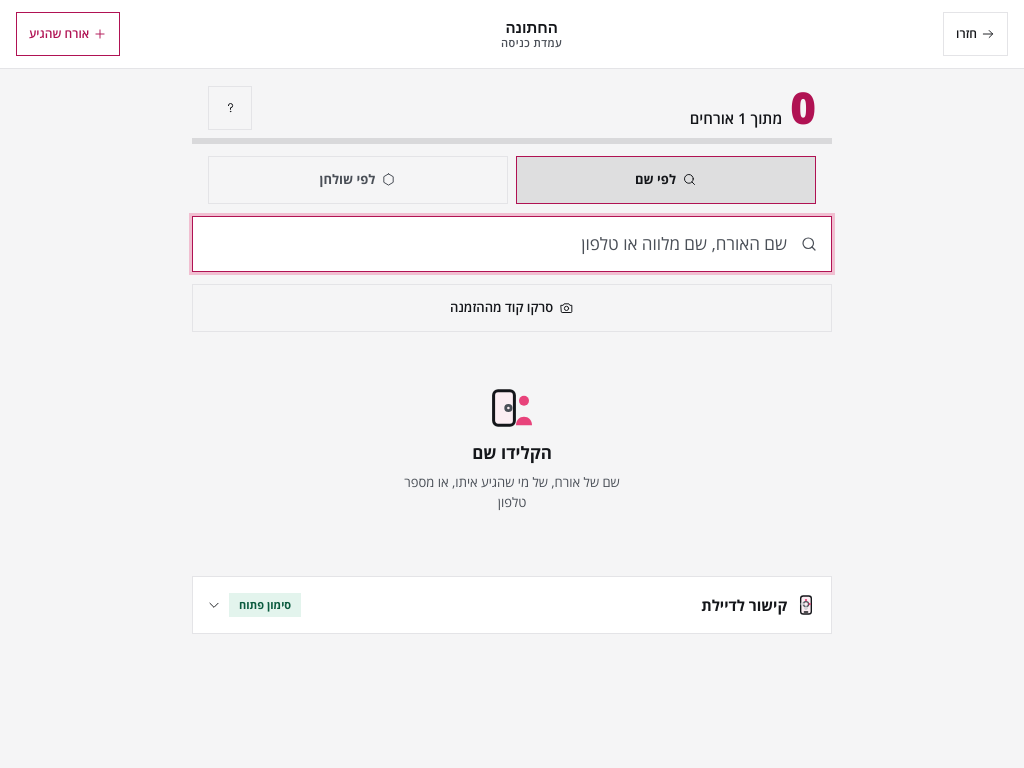
door — free seats › counts the tables with room past the eight it shows
What coordinates should you click on to do the following:
click the tab "לפי שולחן"
I would click on:
 (358, 180)
Its box is [208, 156, 508, 204].
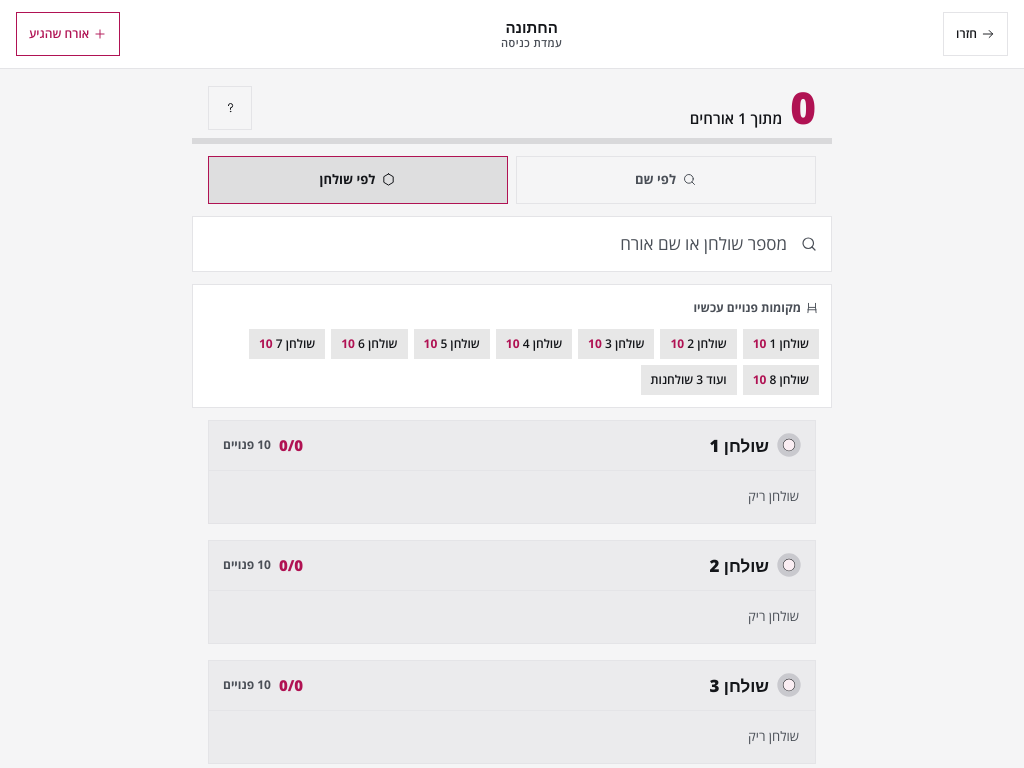
Now the text "ועוד 3 שולחנות" is shown, box [640, 364, 737, 394]
